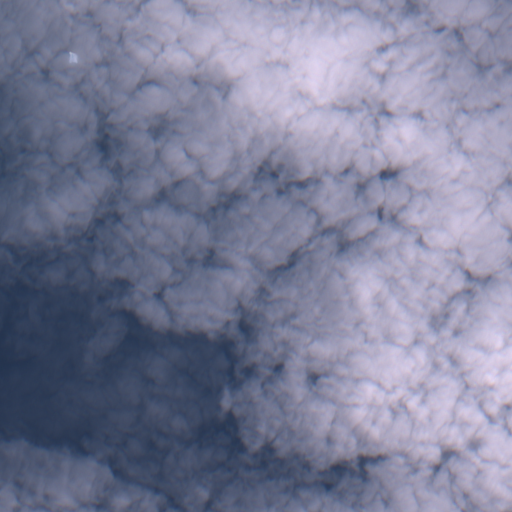Iceberg: (69, 52, 76, 62)
